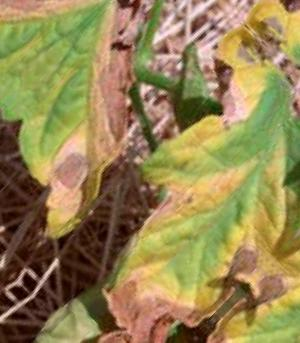Tomato Early blight leaf: (40, 42, 300, 343), (0, 0, 207, 246)
